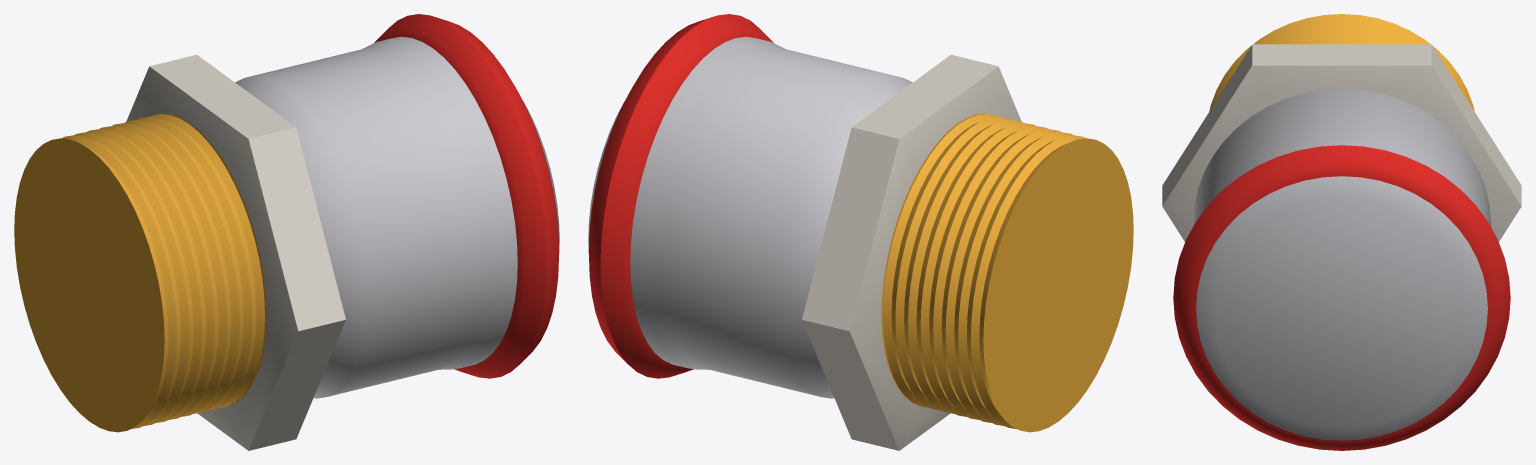
File: fitting_adp_28x1_M_r.glb
3 renders of one model, left to right at view 1: azimuth 30°, elevation 25°; view 2: azimuth 150°, elevation 25°; view 3: azimuth 270°, elevation 25°, orthographic. The views are drawn at different scales.
Parts seen in each view (by area): view 1: резьба НР, раструб, шестигранник переходника, кольцо пресс; view 2: резьба НР, раструб, шестигранник переходника, кольцо пресс; view 3: раструб, кольцо пресс, шестигранник переходника, резьба НР.
Part boxes in pixels (x1=…): резьба НР: x1=14, y1=113, x2=266, y2=432; раструб: x1=235, y1=36, x2=559, y2=398; шестигранник переходника: x1=126, y1=54, x2=345, y2=450; кольцо пресс: x1=374, y1=14, x2=559, y2=378; резьба НР: x1=881, y1=113, x2=1133, y2=432; раструб: x1=588, y1=36, x2=912, y2=398; шестигранник переходника: x1=802, y1=54, x2=1021, y2=450; кольцо пресс: x1=588, y1=14, x2=773, y2=378; раструб: x1=1193, y1=88, x2=1490, y2=440; кольцо пресс: x1=1173, y1=145, x2=1510, y2=450; шестигранник переходника: x1=1162, y1=44, x2=1521, y2=241; резьба НР: x1=1209, y1=14, x2=1474, y2=110.
Bounding box in the file's own units: 0.051 × 0.0412 × 0.0439.
